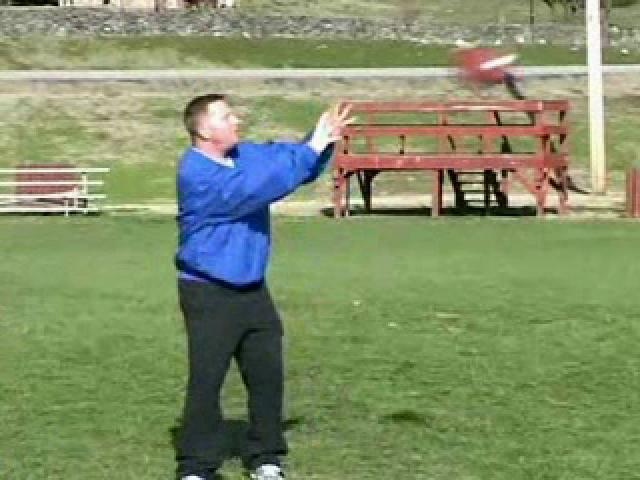I: (173, 77, 338, 480)
